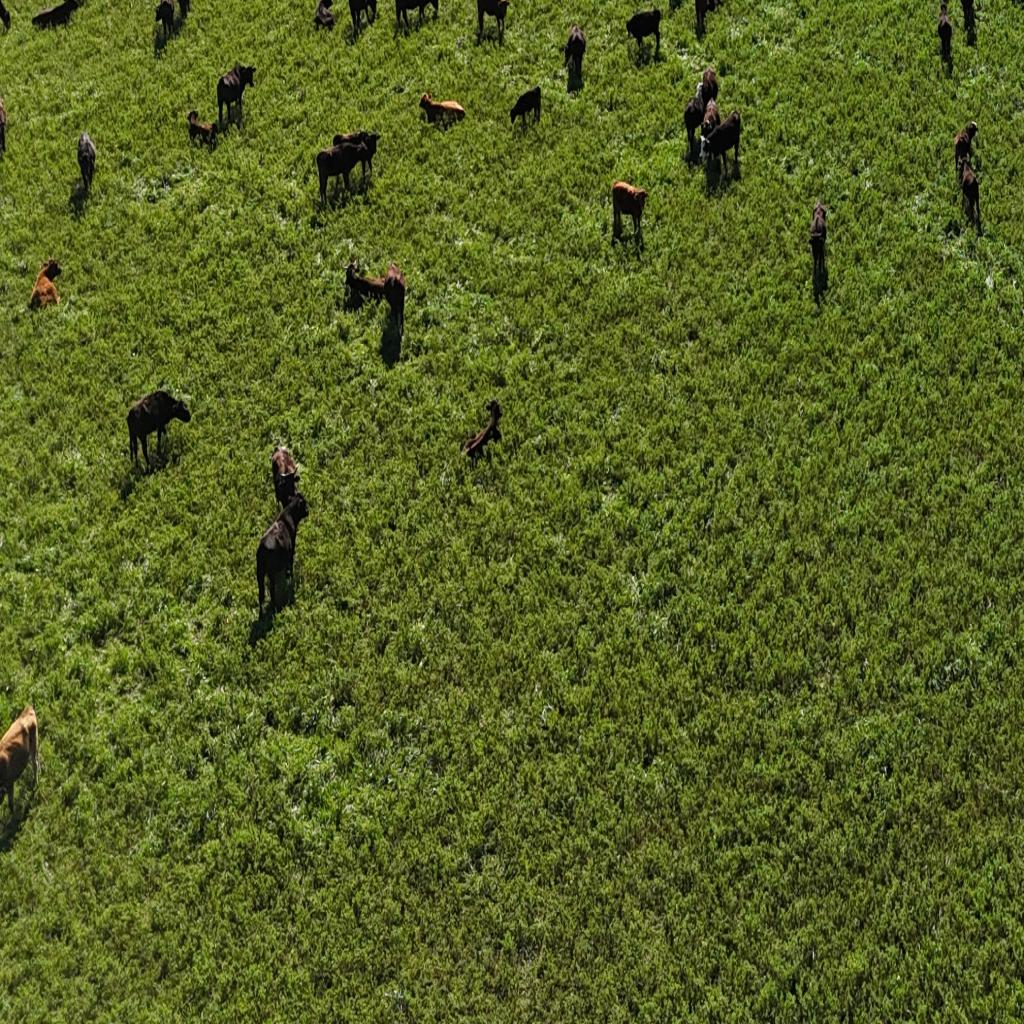cow: (258, 443, 314, 617), (681, 63, 741, 183), (186, 60, 256, 152), (126, 388, 193, 474), (0, 702, 42, 826), (318, 130, 382, 206), (639, 2, 713, 62), (462, 398, 512, 474), (953, 120, 982, 232), (1, 0, 83, 37), (938, 0, 982, 54), (612, 177, 650, 239), (419, 87, 465, 132), (345, 258, 384, 311), (684, 91, 712, 162), (271, 445, 301, 511), (28, 256, 62, 312), (626, 7, 660, 59), (384, 260, 406, 336), (809, 197, 828, 281), (475, 0, 509, 45), (397, 0, 441, 33), (509, 86, 541, 130), (77, 130, 97, 196), (565, 23, 588, 79), (964, 0, 1012, 25), (187, 112, 217, 150), (346, 0, 376, 36), (154, 0, 175, 42), (674, 0, 708, 25), (954, 130, 972, 174), (313, 0, 336, 31), (938, 8, 952, 58), (700, 66, 718, 104), (332, 130, 368, 149), (484, 398, 502, 430), (237, 62, 257, 89), (633, 1, 656, 24), (0, 93, 8, 157), (812, 198, 828, 229), (174, 0, 192, 25), (220, 66, 237, 92), (395, 0, 409, 29), (0, 1, 11, 34), (705, 0, 725, 16), (939, 1, 952, 23)
